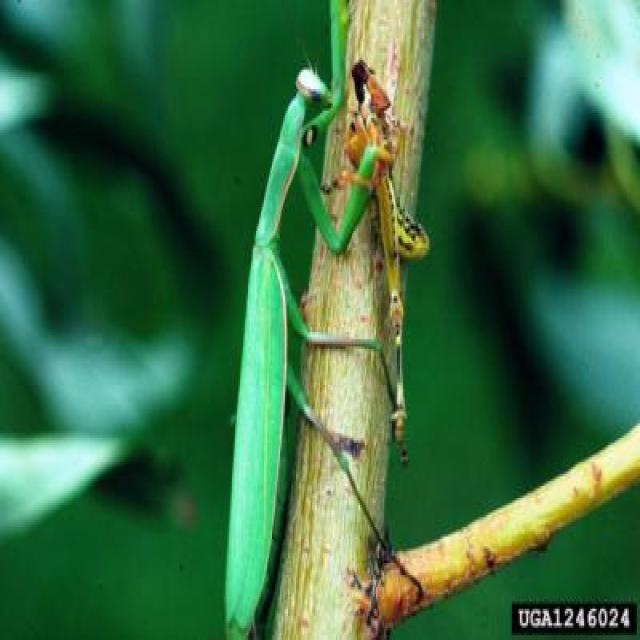antennae: (312, 20, 335, 74), (292, 33, 310, 67)
body: (224, 55, 325, 640)
insect: (225, 0, 418, 640)
legs: (280, 374, 418, 593), (279, 263, 404, 414), (292, 147, 389, 251), (294, 5, 348, 154)
mouthpart: (324, 80, 336, 108)
wings: (223, 250, 290, 636)
